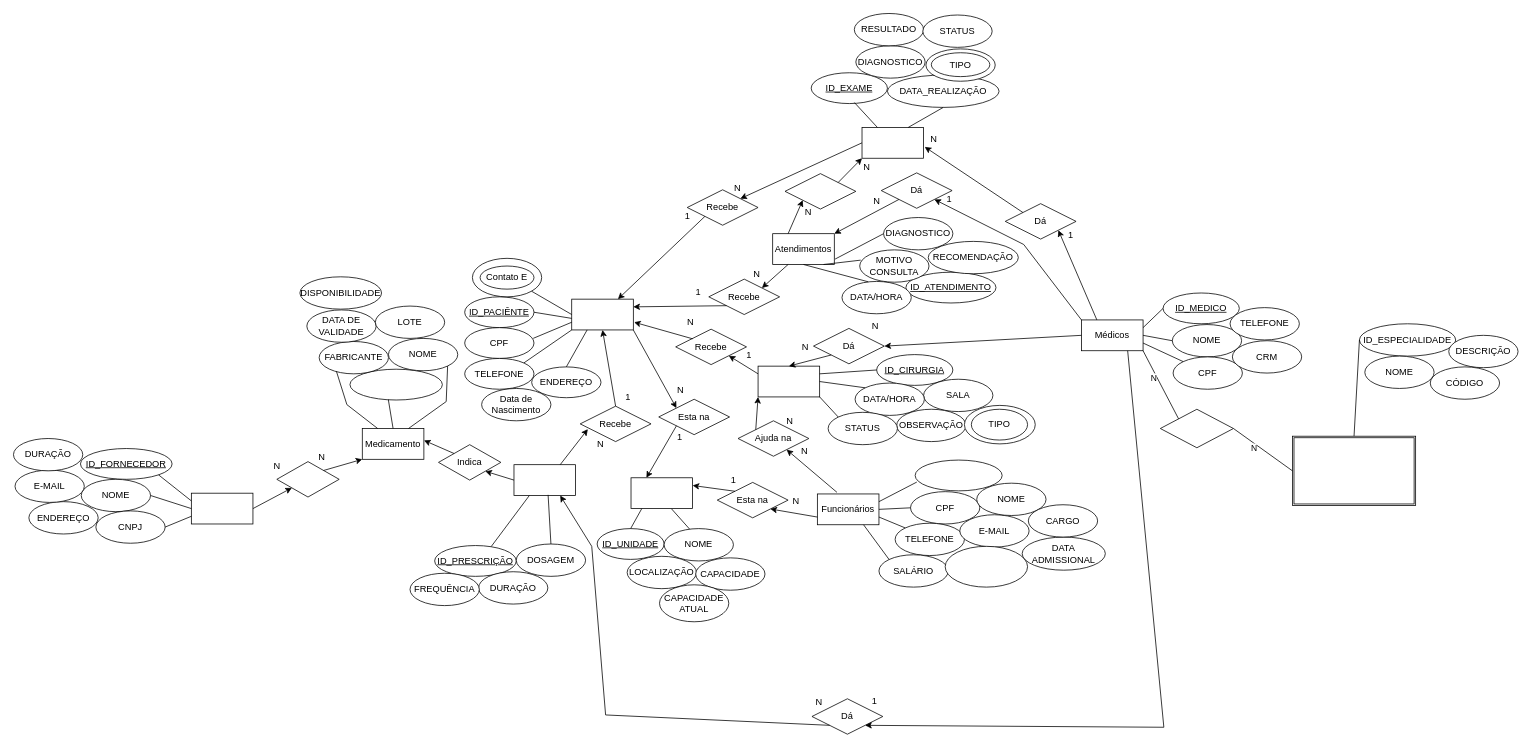
This 1532x748 diagram has some shape labels left out. Here are the shapes that lost their labels. From the top down, the centre of each, then its label:
(x=892, y=142): Exames
(x=820, y=191): Gera
(x=602, y=314): Paciênte
(x=395, y=384): ID_MEDICAMENTO
(x=788, y=381): Cirurgia
(x=1196, y=428): Relationship
(x=307, y=479): Fornece
(x=544, y=479): Prescrição
(x=958, y=475): ID_FUNCIONARIO
(x=1354, y=470): ESPECIALIDADE_MEDICO
(x=222, y=508): Fornecedor
(x=661, y=493): Unidade de Internação
(x=986, y=566): REGISTRO PROFISSIONAL
